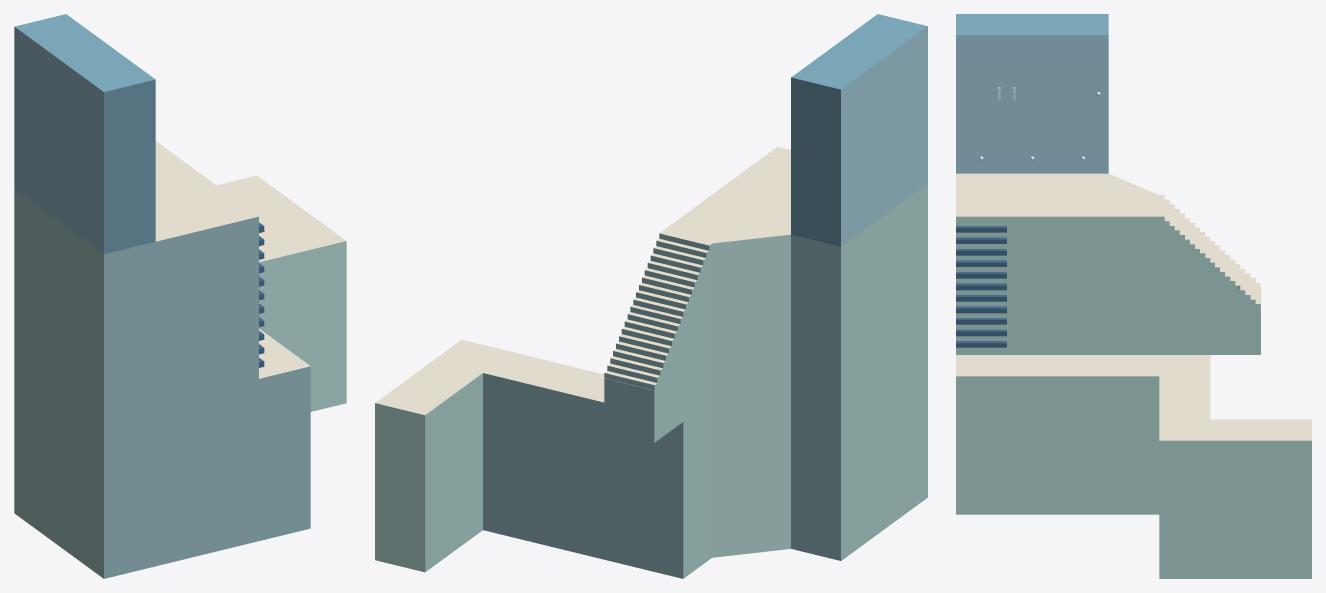
The model's file is Other.fbx.
The picture shows the model from 3 angles, left to right: view 1: azimuth 30°, elevation 25°; view 2: azimuth 150°, elevation 25°; view 3: azimuth 270°, elevation 25°; orthographic projection. The views are drawn at different scales.
Visible parts, largest first — view 1: Other; view 2: Other; view 3: Other.
Part boxes in pixels (box(x1,y1,x2,y2)): Other: box(14, 14, 346, 578); Other: box(375, 14, 927, 578); Other: box(956, 14, 1311, 578).
Bounding box in the file's own units: 7 × 9 × 7.
